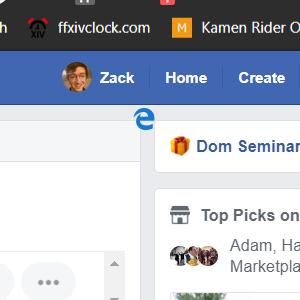edge: (133, 108, 154, 130)
